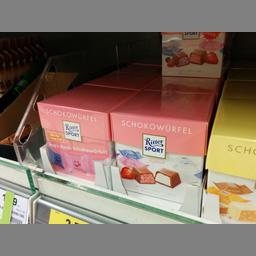chocolate: (111, 90, 215, 198), (30, 81, 124, 186), (154, 34, 223, 76)
